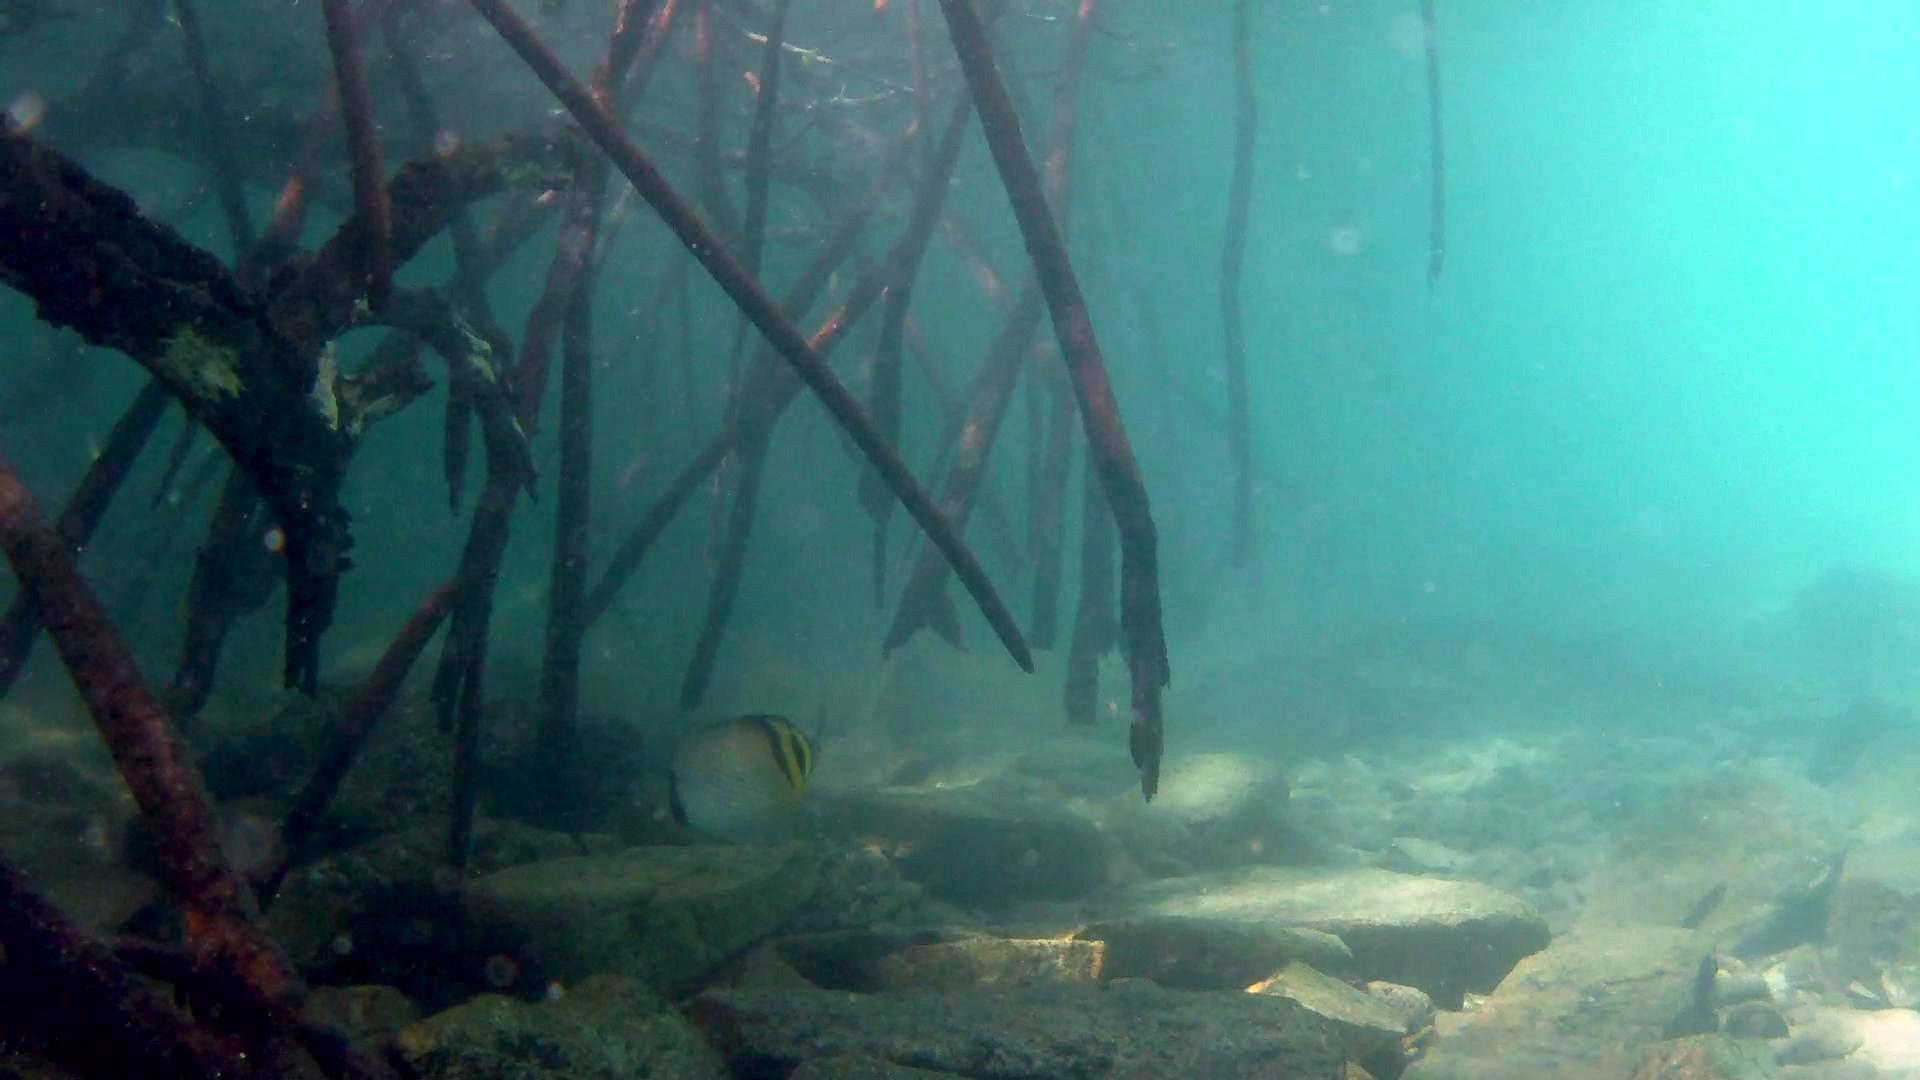chaetodon vagabundus: (645, 704, 820, 836)
